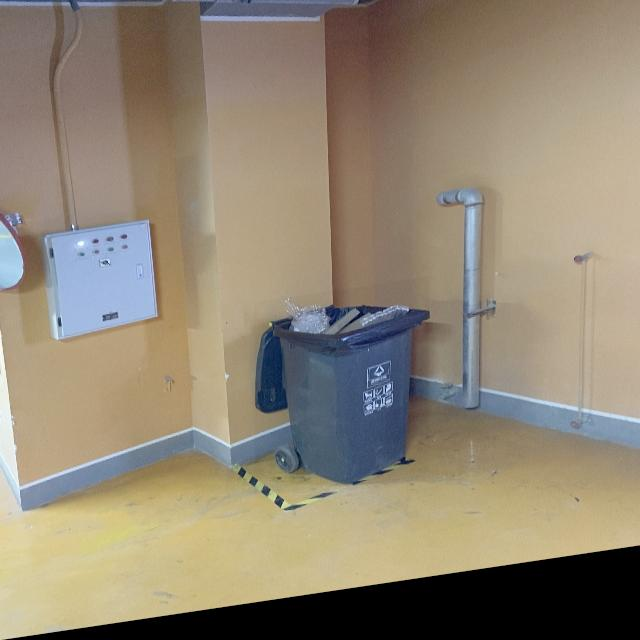overflow: (254, 290, 429, 505)
